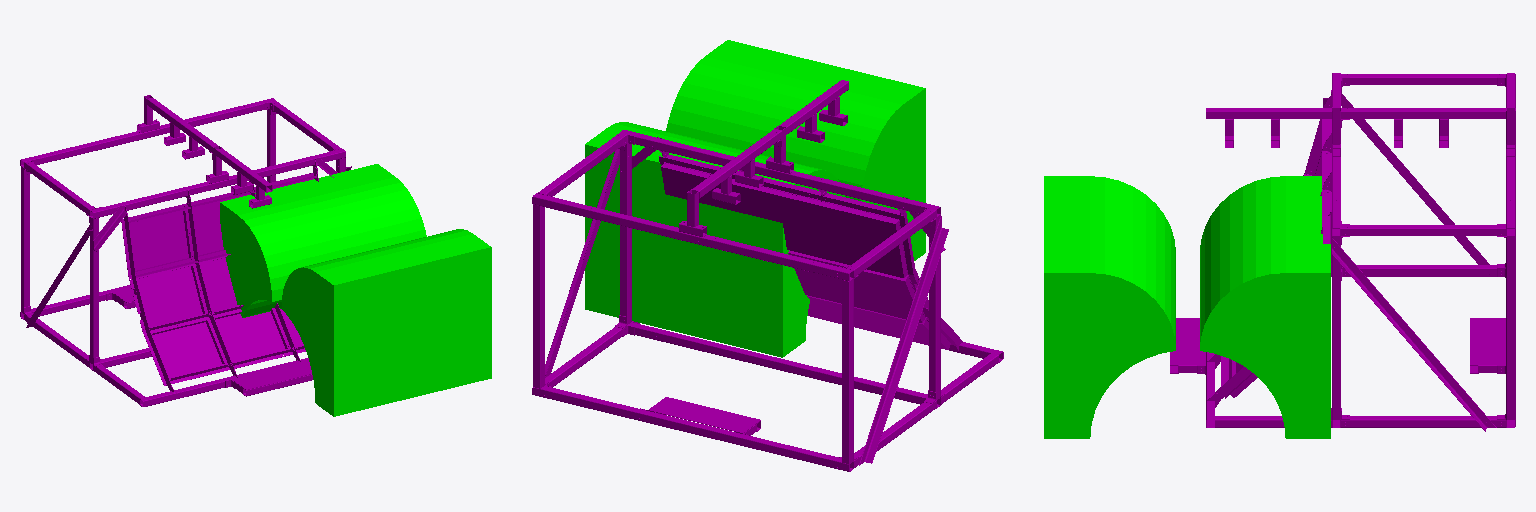
robot.urdf — tubestraight0303:
<?xml version="1.0" encoding="utf-8"?>
<!-- This URDF was automatically created by SolidWorks to URDF Exporter! Originally created by [author] ([email redacted]) 
     Commit Version: 1.6.0-1-g15f4949  Build Version: 1.6.7594.29634
     For more information, please see http://wiki.ros.org/sw_urdf_exporter -->
<robot
  name="tubestraight0303">
  <link
    name="base_link">
    <inertial>
      <origin
        xyz="1.25 -0.00098688 0.62711"
        rpy="0 0 0" />
      <mass
        value="106.93" />
      <inertia
        ixx="78.399"
        ixy="3.0113E-13"
        ixz="-7.3168E-14"
        iyy="69.372"
        iyz="-0.066809"
        izz="120.41" />
    </inertial>
    <visual>
      <origin
        xyz="0 0 0"
        rpy="0 0 0" />
      <geometry>
        <mesh
          filename="package://tubestraight0303/meshes/base_link.STL" />
      </geometry>
      <material
        name="">
        <color
          rgba="0.7 0 0.7 1" />
      </material>
    </visual>
    <collision>
      <origin
        xyz="0 0 0"
        rpy="0 0 0" />
      <geometry>
        <mesh
          filename="package://tubestraight0303/meshes/base_link.STL" />
      </geometry>
    </collision>
  </link>
  <link
    name="Link_wing">
    <inertial>
      <origin
        xyz="1.25 8.8818E-16 0.074234"
        rpy="0 0 0" />
      <mass
        value="9590.7" />
      <inertia
        ixx="3718.4"
        ixy="-1.2985E-11"
        ixz="-1.7363E-12"
        iyy="7458"
        iyz="-5.4001E-13"
        izz="6250.8" />
    </inertial>
    <visual>
      <origin
        xyz="0 0 0"
        rpy="0 0 0" />
      <geometry>
        <mesh
          filename="package://tubestraight0303/meshes/Link_wing.STL" />
      </geometry>
      <material
        name="">
        <color
          rgba="0 1 0 0.001" />
      </material>
    </visual>
    <collision>
      <origin
        xyz="0 0 0"
        rpy="0 0 0" />
      <geometry>
        <mesh
          filename="package://tubestraight0303/meshes/Link_wing.STL" />
      </geometry>
    </collision>
  </link>
  <joint
    name="Joint_wing"
    type="revolute">
    <origin
      xyz="0 0 1.0635"
      rpy="0 0 0" />
    <parent
      link="base_link" />
    <child
      link="Link_wing" />
    <axis
      xyz="-1 0 0" />
    <limit
      lower="0"
      upper="0.0001"
      effort="0"
      velocity="0" />
  </joint>
</robot>

--- Facts derived from the render (not from the file) ---
3 views of the same robot in one strip: view 1: azimuth 30°, elevation 25°; view 2: azimuth 150°, elevation 25°; view 3: azimuth 270°, elevation 25° (orthographic).
Model tubestraight0303 with 2 links and 1 joints (1 revolute), rooted at base_link, posed every joint at zero.
Visible links, largest first — view 1: Link_wing, base_link; view 2: base_link, Link_wing; view 3: Link_wing, base_link.
Boxes of the visible links, left/top/right/bottom form: Link_wing: left=220, top=164, right=491, bottom=416; base_link: left=20, top=95, right=351, bottom=406; base_link: left=532, top=80, right=1003, bottom=471; Link_wing: left=585, top=40, right=925, bottom=357; Link_wing: left=1044, top=176, right=1330, bottom=438; base_link: left=1170, top=73, right=1515, bottom=431.
Bounding box of the posed robot: 4.6 × 5.13 × 2.9 m (x, y, z).
Meshes: 2 distinct files referenced, 2 mesh visuals loaded (2 binary STL).
